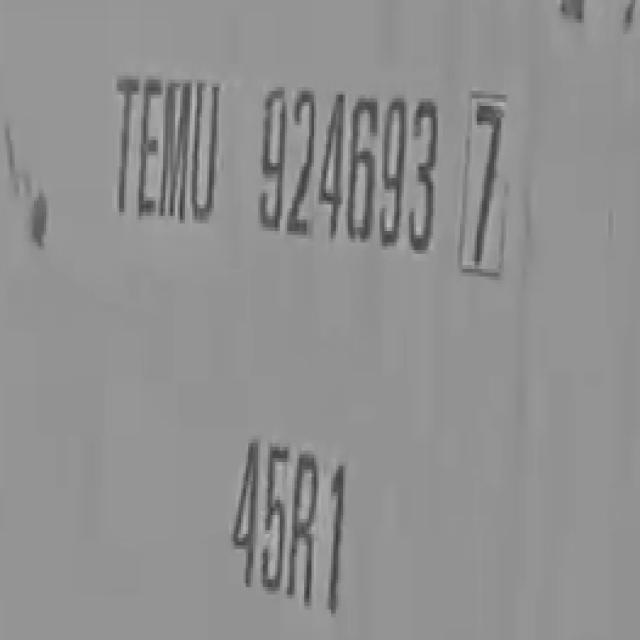dv: (452, 84, 522, 286)
owner: (100, 57, 228, 238)
serial: (252, 67, 442, 263)
size: (215, 416, 381, 629)
